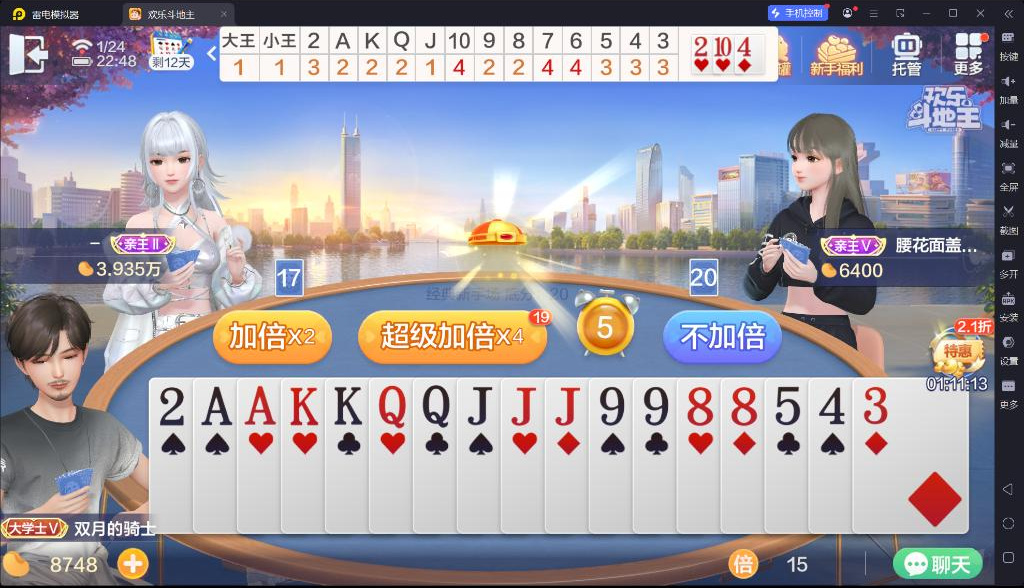A: (199, 383, 235, 429), (242, 383, 277, 428)
J: (505, 382, 539, 428), (550, 383, 584, 428), (461, 383, 495, 428)
K: (285, 382, 320, 428), (331, 381, 365, 427)
Q: (375, 382, 408, 430), (419, 382, 452, 429)
eight: (682, 383, 716, 428), (727, 384, 761, 428)
five: (771, 383, 803, 428)
four: (816, 384, 848, 428), (736, 36, 753, 58)
nine: (595, 384, 628, 428), (638, 384, 670, 428)
ten: (714, 36, 732, 57)
three: (861, 384, 891, 427)
two: (156, 383, 188, 429), (693, 36, 709, 57)
